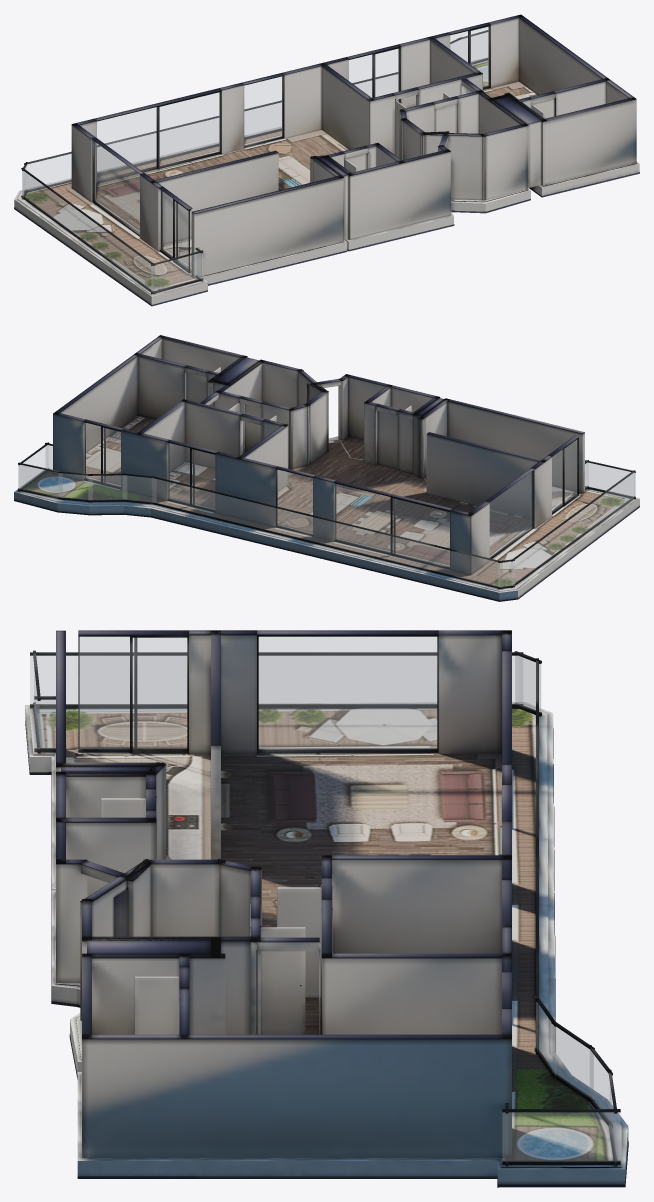
3 renders of one model, top to bottom at view 1: azimuth 30°, elevation 25°; view 2: azimuth 150°, elevation 25°; view 3: azimuth 270°, elevation 25°, orthographic. The views are drawn at different scales.
Visible parts, largest first — view 1: plan, glass0_m, railg1_m, railg9_m, glass4_m, glass1_m, glass2_m, glass5_m, railg10_m, glass3_m, railg6_m; view 2: plan, railg1_m, glass0_m, railg9_m, glass2_m, glass4_m, glass1_m, glass3_m, glass5_m, railg10_m, railg6_m, railg4_m (+4 smaller); view 3: plan, glass4_m, railg9_m, glass5_m, railg7_m, railg4_m, railg0_m, railg8_m, railg3_m, railg5_m.
Boxes of the visible parts, x1=… form: plan: x1=14, y1=14, x2=639, y2=306; glass0_m: x1=97, y1=92, x2=219, y2=181; railg1_m: x1=25, y1=75, x2=395, y2=189; railg9_m: x1=22, y1=171, x2=154, y2=291; glass4_m: x1=94, y1=141, x2=139, y2=233; glass1_m: x1=244, y1=76, x2=282, y2=145; glass2_m: x1=349, y1=49, x2=398, y2=101; glass5_m: x1=160, y1=190, x2=190, y2=268; railg10_m: x1=151, y1=253, x2=202, y2=291; glass3_m: x1=450, y1=27, x2=488, y2=87; railg6_m: x1=461, y1=32, x2=487, y2=62; plan: x1=14, y1=335, x2=639, y2=601; railg1_m: x1=153, y1=478, x2=502, y2=587; glass0_m: x1=335, y1=484, x2=449, y2=566; railg9_m: x1=511, y1=473, x2=634, y2=585; glass2_m: x1=168, y1=443, x2=214, y2=509; glass4_m: x1=490, y1=472, x2=532, y2=557; glass1_m: x1=277, y1=470, x2=312, y2=533; glass3_m: x1=84, y1=423, x2=120, y2=486; glass5_m: x1=552, y1=440, x2=576, y2=512; railg10_m: x1=585, y1=462, x2=635, y2=496; railg6_m: x1=18, y1=465, x2=62, y2=497; railg4_m: x1=88, y1=475, x2=126, y2=499; plan: x1=25, y1=630, x2=628, y2=1187; glass4_m: x1=259, y1=637, x2=436, y2=748; railg9_m: x1=30, y1=656, x2=522, y2=704; glass5_m: x1=78, y1=637, x2=186, y2=748; railg7_m: x1=502, y1=1112, x2=620, y2=1161; railg4_m: x1=552, y1=1024, x2=593, y2=1099; railg0_m: x1=515, y1=656, x2=540, y2=712; railg8_m: x1=34, y1=700, x2=55, y2=748; railg3_m: x1=536, y1=1002, x2=555, y2=1074; railg5_m: x1=590, y1=1050, x2=611, y2=1121.
Size of the model in its own units: 19.04 by 2.62 by 10.38.
Materials: 2 (1 with a texture image).
